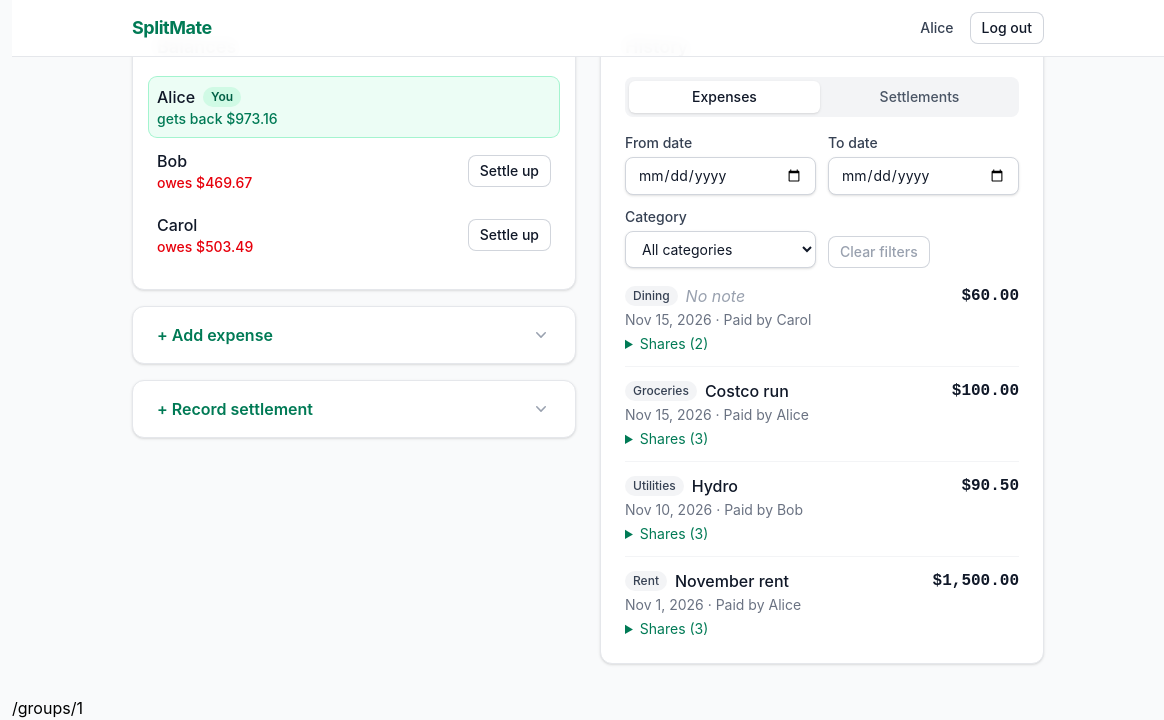
it: History filters › shows names (not ids), newest first, and expandable shares
(page scrolled)
Expected: the list named "expenses" is shown, [625,284,1019,639]
Expected: the list item with test id "expense-row" shows "No note", [686,286,745,306]
Click the heading "Shares (3)" below "Groceries": (674, 438) [640,430,708,447]
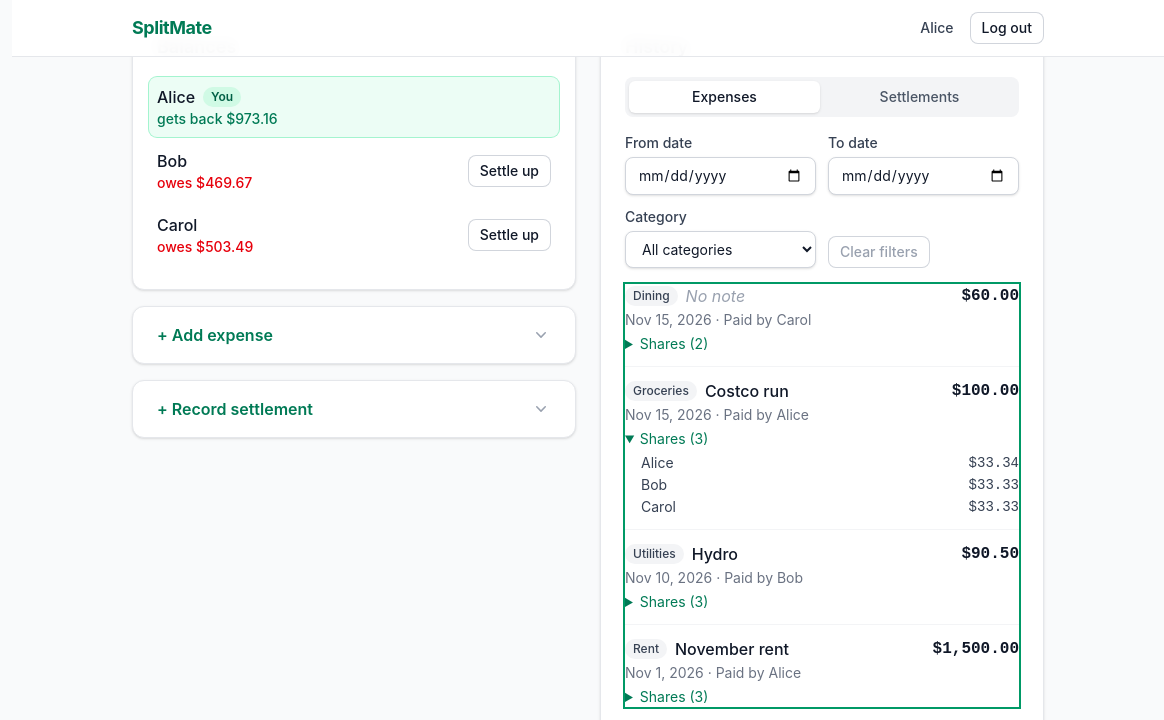
Result: the text "$33.34" is shown at [969,453,1019,473]
